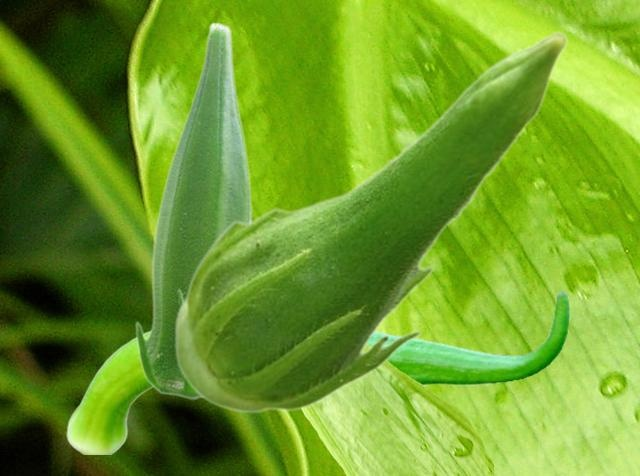okra: (173, 30, 568, 413), (66, 290, 569, 453), (134, 21, 254, 399)
